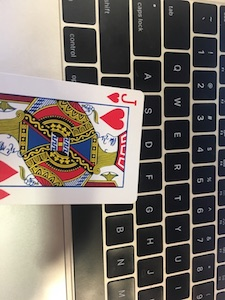JackOfHearts: (1, 68, 151, 209)
